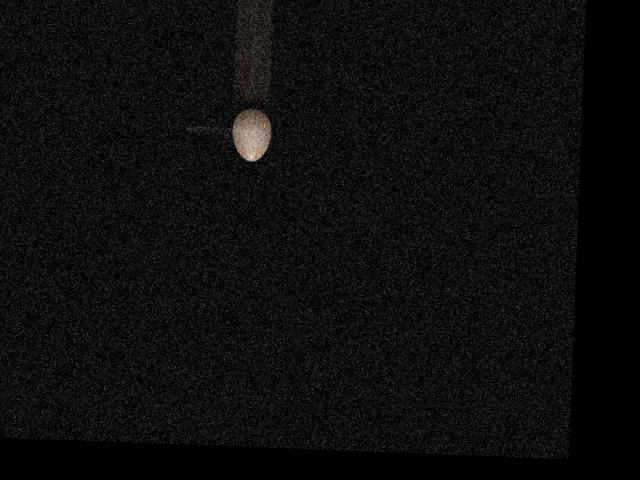egg: (232, 107, 272, 162)
